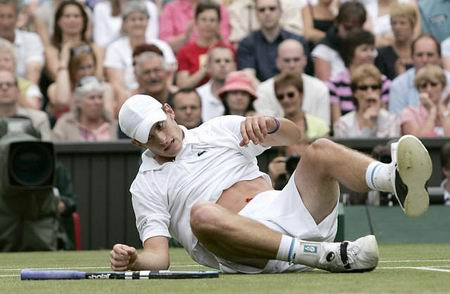10+: (1, 1, 450, 274)
down: (95, 79, 438, 275)
